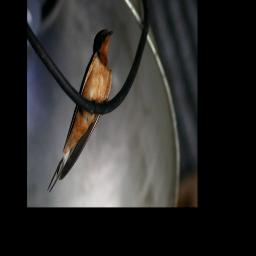Swallow: (44, 25, 116, 194)
